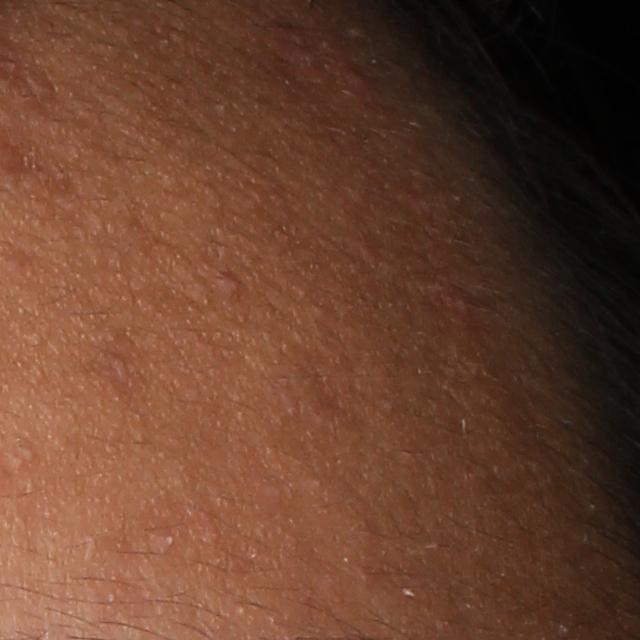comedo: (219, 270, 247, 304), (18, 443, 41, 462)
